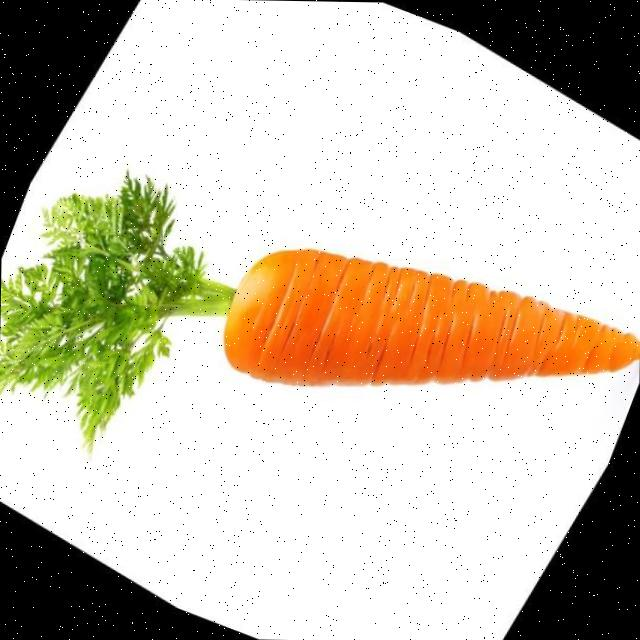carrot: (0, 174, 639, 448)
